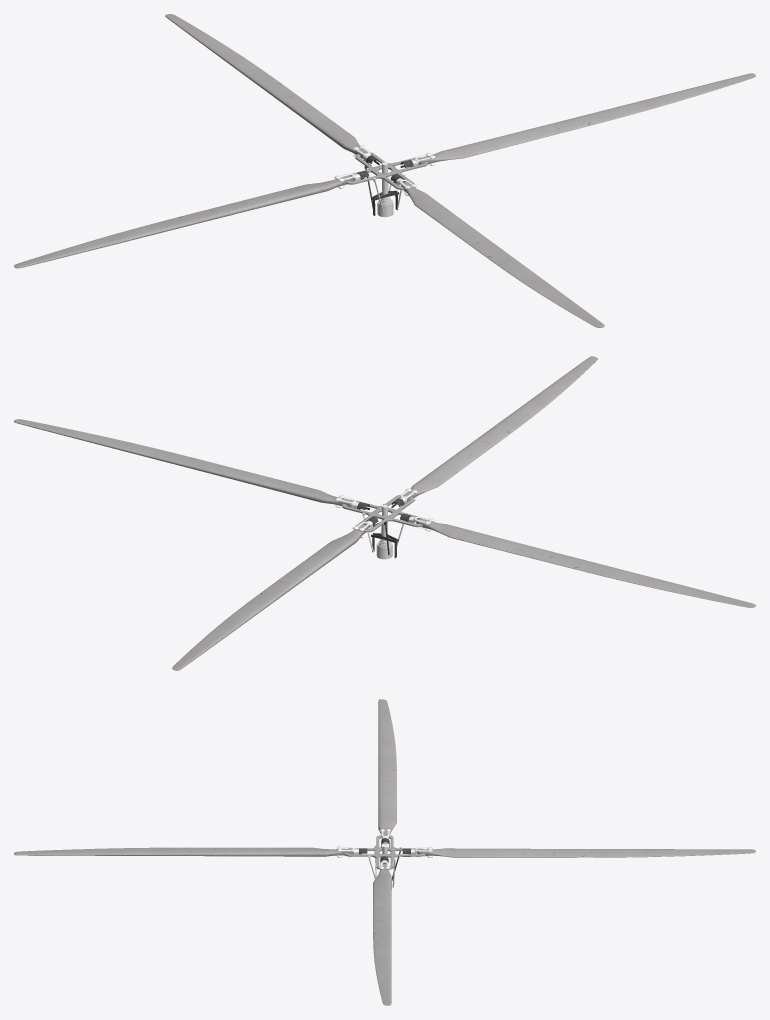
Rendered from Rotor.fbx.
3 renders of one model, top to bottom at view 1: azimuth 30°, elevation 25°; view 2: azimuth 150°, elevation 25°; view 3: azimuth 270°, elevation 25°, orthographic. The views are drawn at different scales.
Parts seen in each view (by area): view 1: ID16inst, ID24inst, ID12inst, ID20inst, ID9inst; view 2: ID24inst, ID16inst, ID12inst, ID20inst, ID9inst; view 3: ID20inst, ID12inst, ID16inst, ID24inst, ID9inst.
Boxes of the visible parts, x1,y1,x2,y2 form: ID16inst: (418, 73, 755, 164); ID24inst: (14, 176, 352, 268); ID12inst: (401, 182, 604, 327); ID20inst: (165, 14, 367, 158); ID9inst: (343, 152, 428, 189); ID24inst: (416, 519, 755, 607); ID16inst: (14, 419, 352, 507); ID12inst: (403, 356, 597, 501); ID20inst: (172, 524, 367, 670); ID9inst: (342, 495, 427, 532); ID20inst: (417, 848, 755, 857); ID12inst: (14, 847, 352, 856); ID16inst: (373, 864, 391, 1005); ID24inst: (378, 699, 396, 835); ID9inst: (344, 835, 425, 869).
Size of the model in its own units: 18.37 by 1.19 by 18.37.
